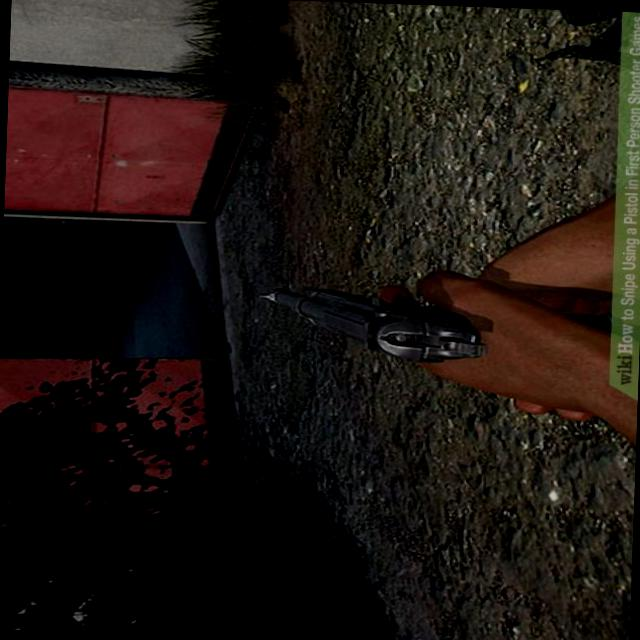handgun: (240, 284, 613, 368)
